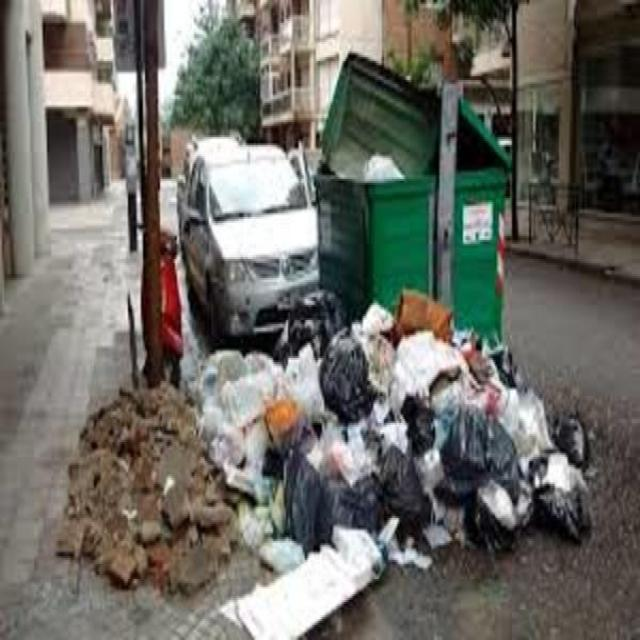garbage: (192, 276, 604, 638), (332, 137, 408, 219)
